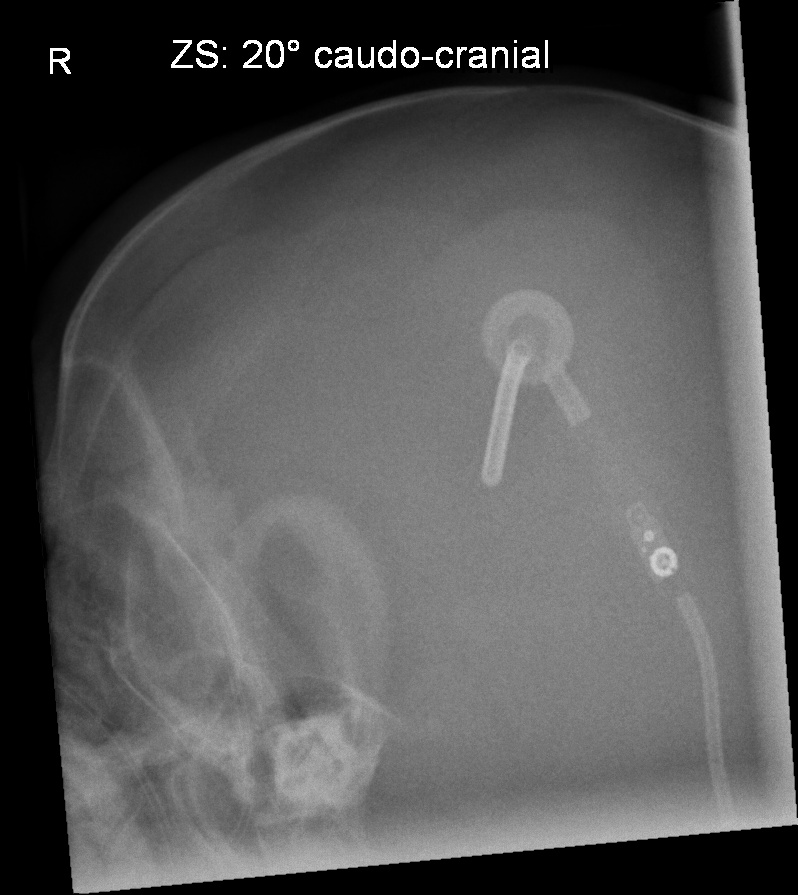Codman Hakim: (626, 515, 689, 594)
